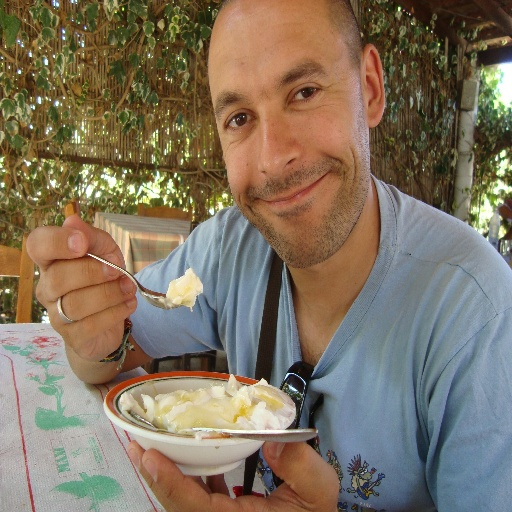hand: (126, 437, 340, 511), (47, 215, 135, 382)
